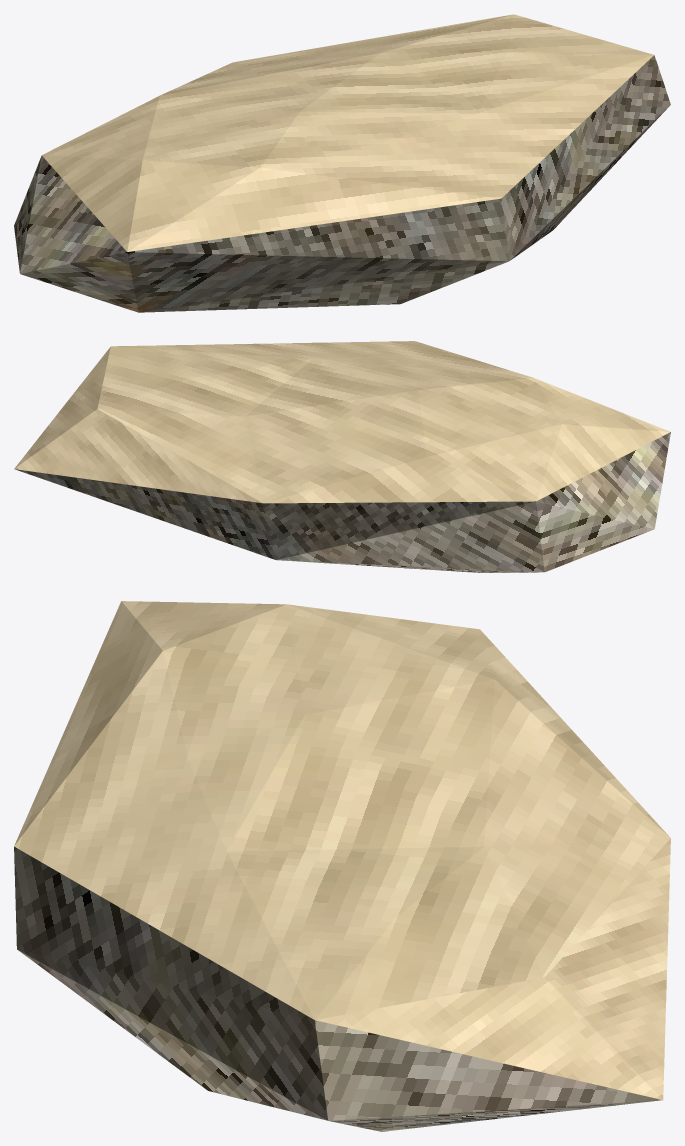
The model's file is beach-_Floating_Island (1).fbx.
3 views of the same model, one above another, from view 1: azimuth 30°, elevation 25°; view 2: azimuth 150°, elevation 25°; view 3: azimuth 270°, elevation 25° (orthographic). The views are drawn at different scales.
Parts seen in each view (by area): view 1: island; view 2: island; view 3: island.
Part boxes in pixels (x1=…): island: x1=14, y1=14, x2=670, y2=312; island: x1=14, y1=341, x2=670, y2=572; island: x1=14, y1=601, x2=670, y2=1131.
Bounding box in the file's own units: 4.42 × 2.6 × 1.14.
Materials: 2 (2 with a texture image).
